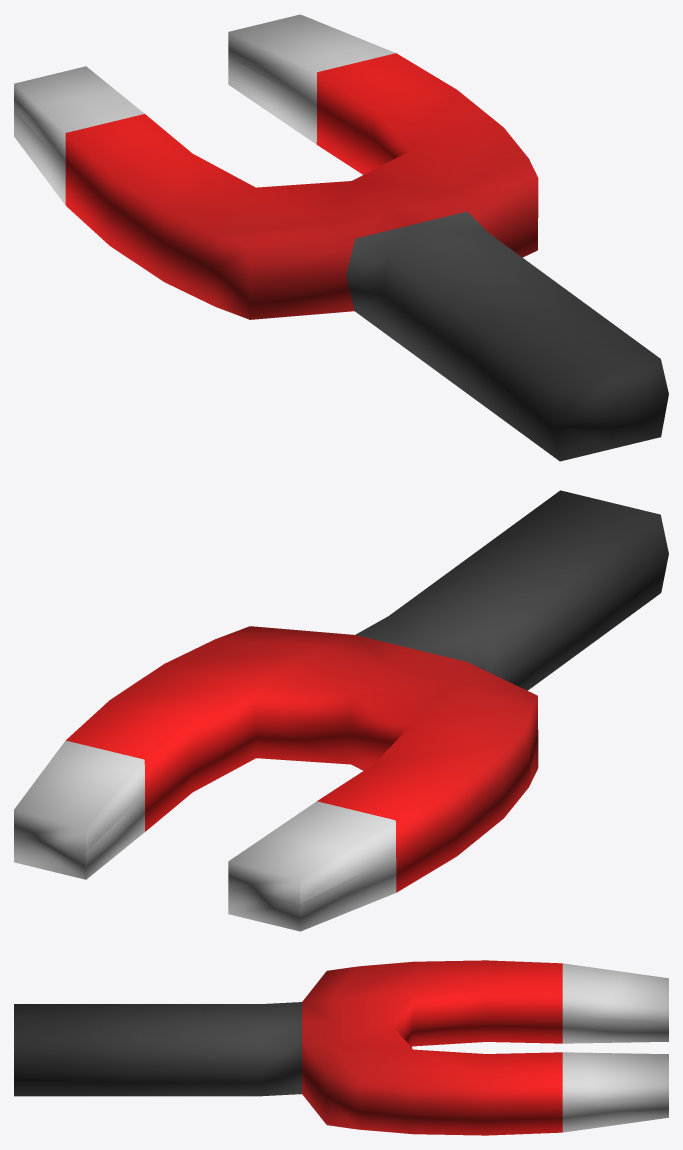
File: RED MAGNET.fbx
3 views of the same model, one above another, from view 1: azimuth 30°, elevation 25°; view 2: azimuth 150°, elevation 25°; view 3: azimuth 270°, elevation 25° (orthographic). The views are drawn at different scales.
Visible parts, largest first — view 1: RED_MAGNET; view 2: RED_MAGNET; view 3: RED_MAGNET.
Part boxes in pixels (left/top/right/bottom): RED_MAGNET: left=14, top=14, right=668, bottom=461; RED_MAGNET: left=14, top=490, right=668, bottom=931; RED_MAGNET: left=14, top=960, right=668, bottom=1135.
Size of the model in its own units: 2.6 by 0.5639 by 5.88.
1 material, 1 textured.
